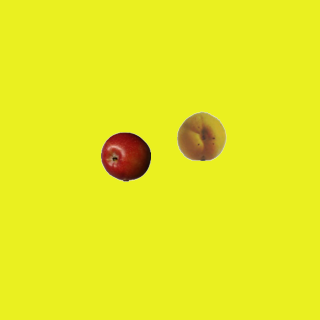Apple Braeburn: (100, 131, 150, 181)
Peach 2: (176, 110, 226, 160)
